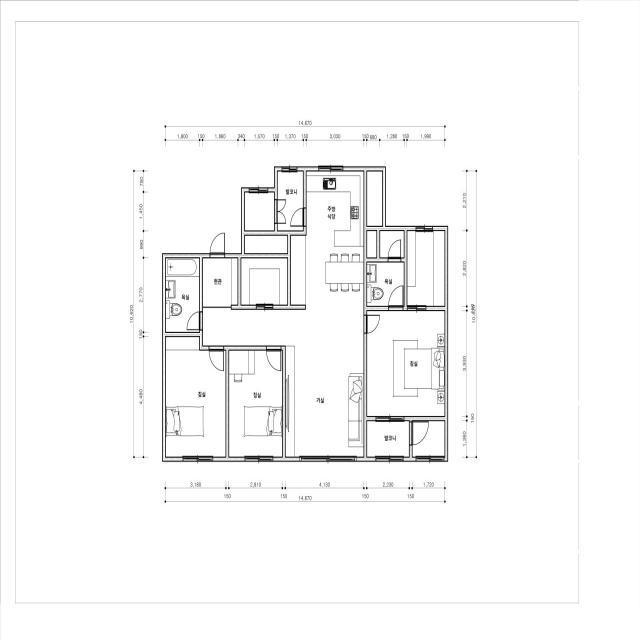space_balconi: (277, 171, 303, 231), (367, 421, 409, 457)
space_bedroom: (367, 311, 445, 416), (166, 337, 226, 457), (229, 350, 282, 457)
space_dressroom: (407, 230, 445, 306)
space_front: (203, 258, 238, 310)
space_kitchen: (291, 171, 364, 310)
space_living_room: (203, 310, 364, 457)
space_other: (241, 258, 288, 305), (412, 421, 445, 457), (245, 192, 274, 231), (367, 171, 382, 226), (245, 235, 288, 254), (380, 231, 404, 258), (367, 231, 377, 258)
space_toilet: (166, 258, 199, 332), (367, 262, 404, 306)
